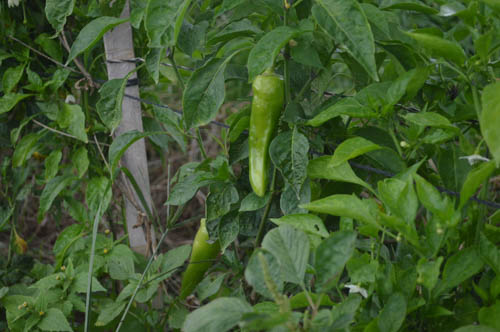ChiliPepper: (245, 77, 284, 197), (180, 222, 220, 296)
